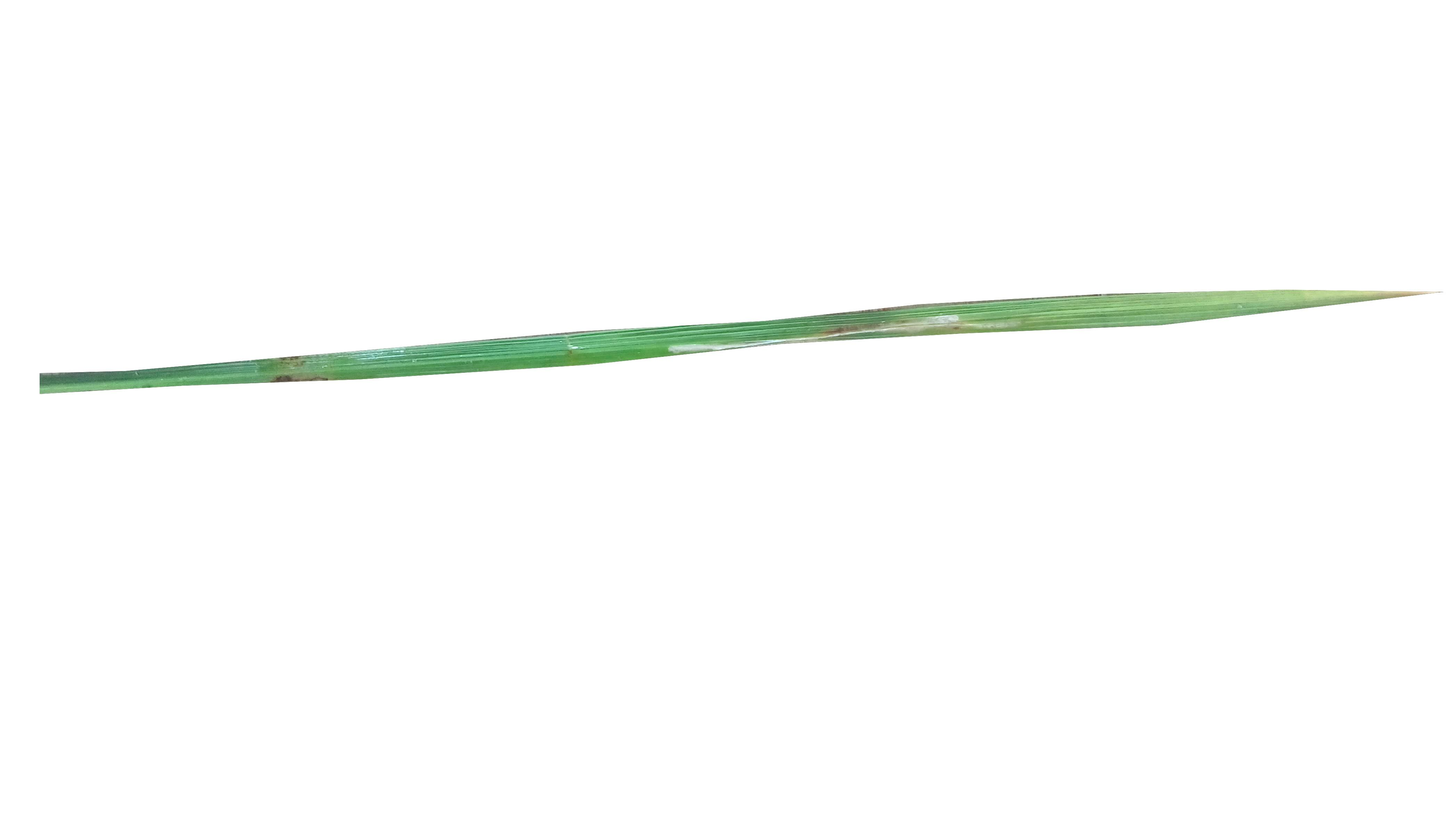Rice blast: (267, 357, 334, 385)
